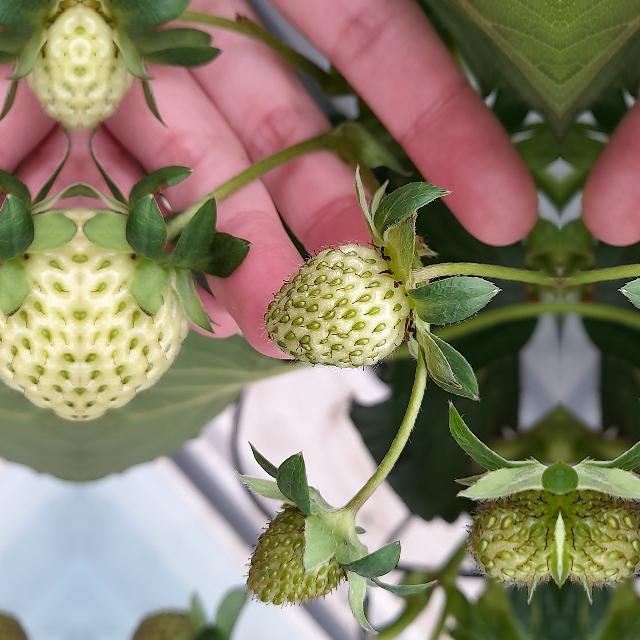Health_25: (80, 212, 204, 420), (264, 243, 414, 369), (0, 211, 80, 420), (246, 504, 350, 608), (469, 472, 559, 592), (561, 472, 640, 591)
